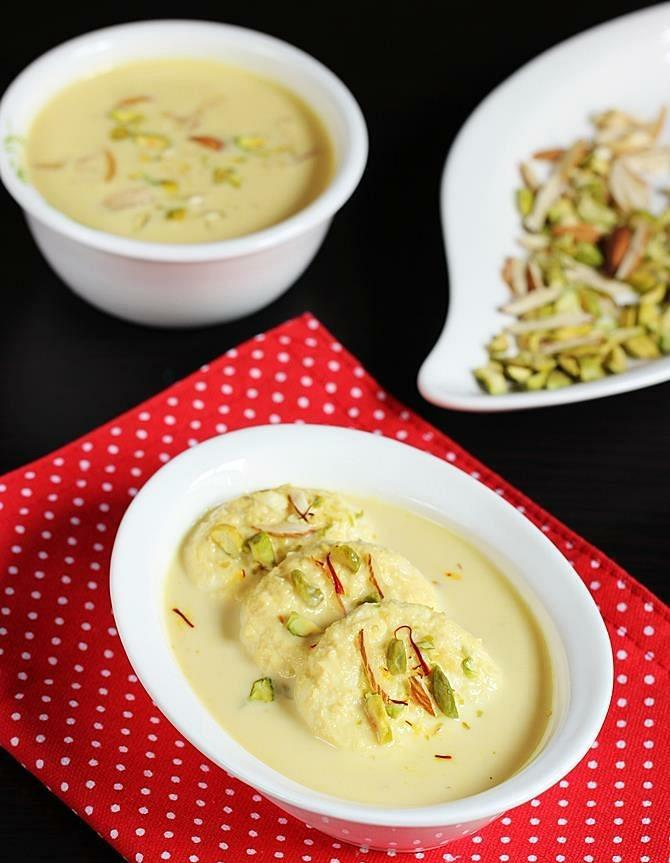RasMalai: (164, 475, 557, 796), (26, 54, 335, 241)
